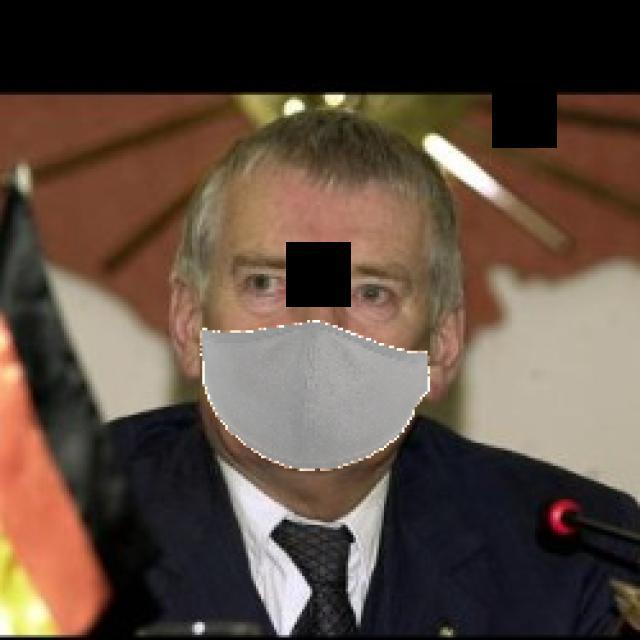cloth: (194, 143, 432, 478)
